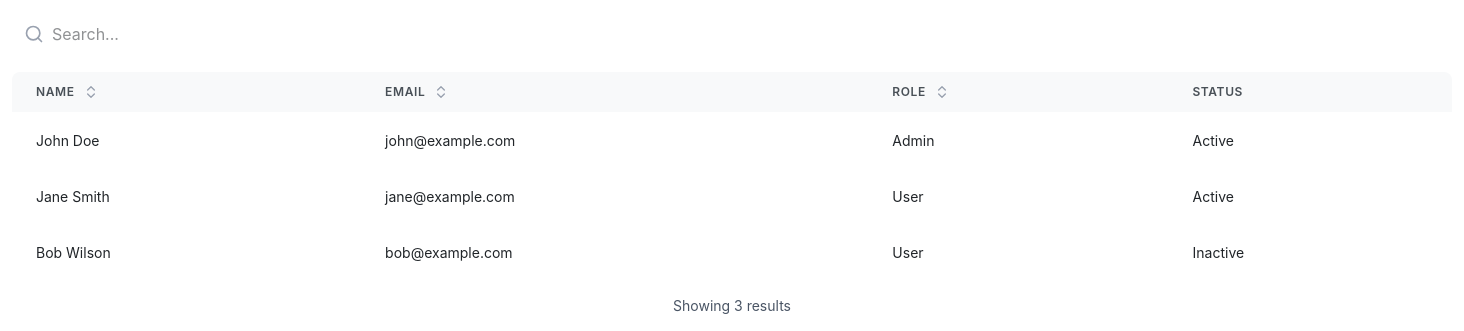
Test: DataTable Component › Search Functionality › should clear search when X is clicked
In the field with placeholder "Search...": (732, 34) [12, 12, 1452, 56], type "Jane"
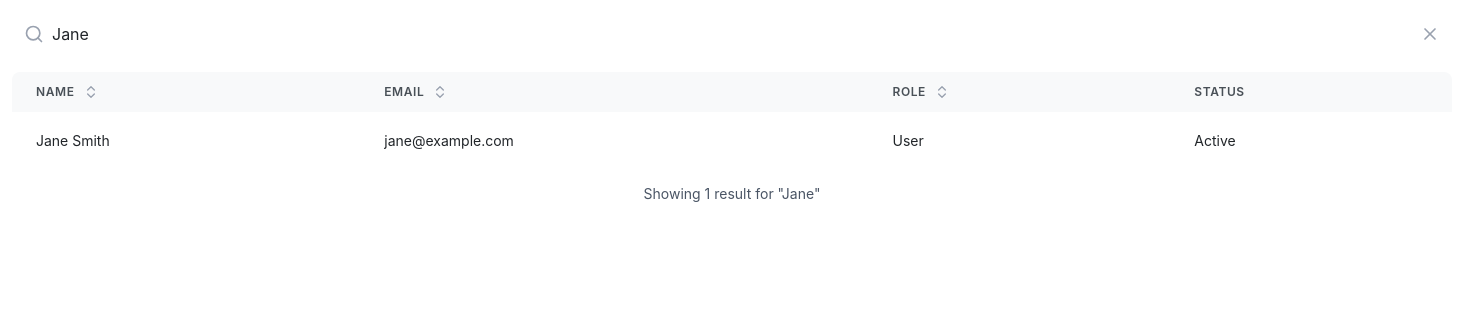
Now the text "John Doe" is gone
# Clear the search by clearing the input directly
Clear the field with placeholder "Search...": (732, 34) [12, 12, 1452, 56]
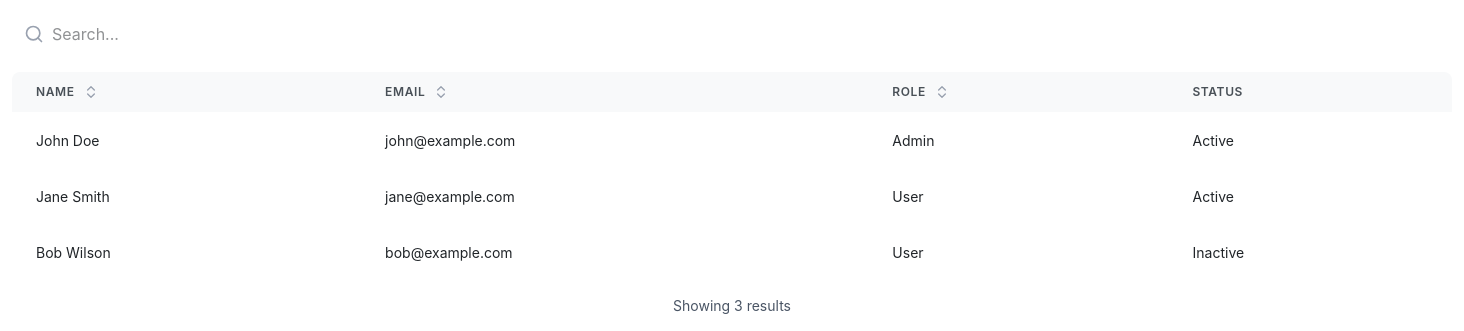
Now the text "John Doe" is shown, box [36, 132, 100, 149]
